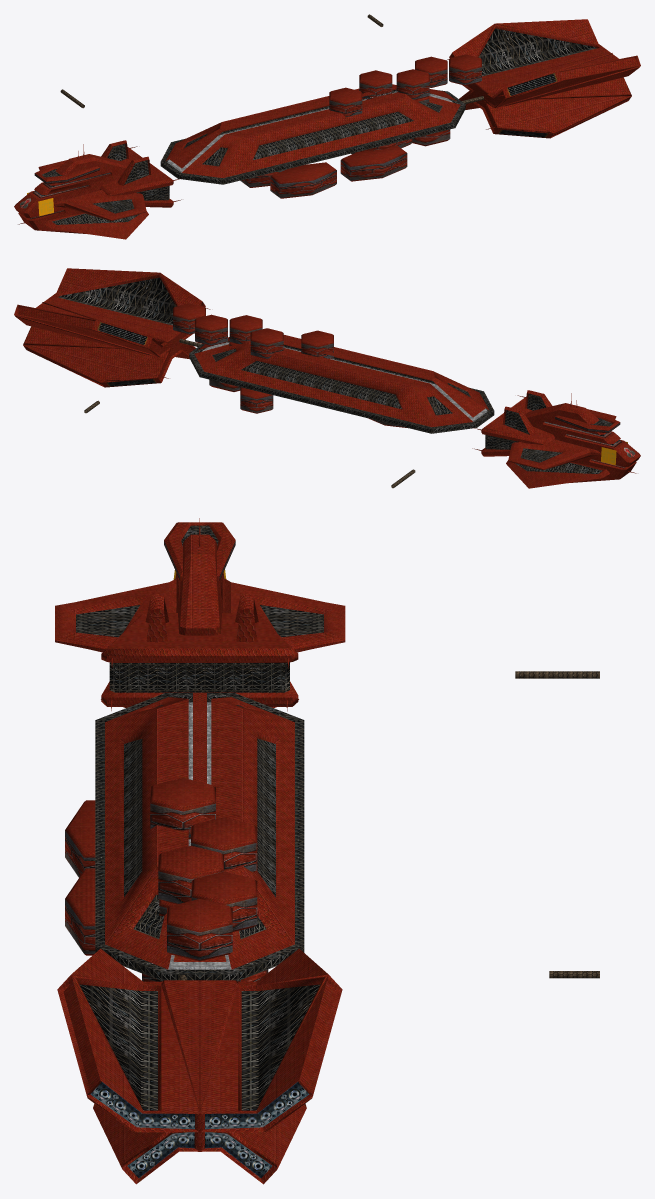
File: pvc04.obj
3 views of the same model, one above another, from view 1: azimuth 30°, elevation 25°; view 2: azimuth 150°, elevation 25°; view 3: azimuth 270°, elevation 25° (orthographic). The views are drawn at different scales.
Visible parts, largest first — view 1: TAIL0, MIDDLE0, HEAD0, HEAD_FIN0, CARGO_B0.008, CARGO_B0.007, HEAD_BUTT0, HEAD_FIN020, HEAD_FIN030, CARGO_A0.001, CARGO_A0.003, CARGO_A0.006 (+5 smaller); view 2: TAIL0, MIDDLE0, HEAD0, HEAD_FIN0, HEAD_FIN020, HEAD_BUTT0, HEAD_FIN030, CARGO_A0.002, CARGO_A0.005, CARGO_A0.006, CARGO_A0.001, CARGO_A0.003 (+2 smaller); view 3: TAIL0, MIDDLE0, HEAD_BUTT0, HEAD_FIN0, HEAD0, CARGO_A0.001, CARGO_A0.006, CARGO_A0.003, CARGO_A0.005, CARGO_A0.002, CARGO_B0.007, HEAD_VISOR0 (+2 smaller).
Boxes of the visible parts, left/top/right/bottom form: TAIL0: left=449, top=19, right=640, bottom=138; MIDDLE0: left=160, top=84, right=465, bottom=184; HEAD0: left=14, top=154, right=128, bottom=233; HEAD_FIN0: left=38, top=160, right=146, bottom=220; CARGO_B0.008: left=270, top=162, right=336, bottom=198; CARGO_B0.007: left=340, top=145, right=407, bottom=181; HEAD_BUTT0: left=99, top=147, right=173, bottom=207; HEAD_FIN020: left=45, top=211, right=148, bottom=239; HEAD_FIN030: left=101, top=140, right=151, bottom=185; CARGO_A0.001: left=449, top=54, right=481, bottom=85; CARGO_A0.003: left=396, top=69, right=429, bottom=99; CARGO_A0.006: left=329, top=87, right=362, bottom=117; TAIL0: left=14, top=268, right=205, bottom=387; MIDDLE0: left=189, top=335, right=494, bottom=433; HEAD0: left=525, top=403, right=640, bottom=483; HEAD_FIN0: left=508, top=409, right=616, bottom=469; HEAD_FIN020: left=506, top=460, right=610, bottom=488; HEAD_BUTT0: left=481, top=397, right=555, bottom=456; HEAD_FIN030: left=502, top=390, right=552, bottom=435; CARGO_A0.002: left=195, top=314, right=227, bottom=345; CARGO_A0.005: left=250, top=328, right=283, bottom=359; CARGO_A0.006: left=301, top=330, right=333, bottom=358; CARGO_A0.001: left=173, top=303, right=205, bottom=334; CARGO_A0.003: left=229, top=315, right=262, bottom=344; TAIL0: left=57, top=948, right=342, bottom=1184; MIDDLE0: left=95, top=692, right=304, bottom=981; HEAD_BUTT0: left=101, top=613, right=298, bottom=706; HEAD_FIN0: left=55, top=578, right=345, bottom=652; HEAD0: left=175, top=534, right=224, bottom=635; CARGO_A0.001: left=167, top=899, right=232, bottom=961; CARGO_A0.006: left=150, top=778, right=215, bottom=839; CARGO_A0.003: left=158, top=845, right=223, bottom=904; CARGO_A0.005: left=191, top=817, right=256, bottom=871; CARGO_A0.002: left=191, top=871, right=257, bottom=931; CARGO_B0.007: left=65, top=869, right=95, bottom=955; HEAD_VISOR0: left=164, top=522, right=235, bottom=581.
Size of the model in its own units: 7257 by 1006 by 2871.
Materials: 65 (65 with a texture image).
